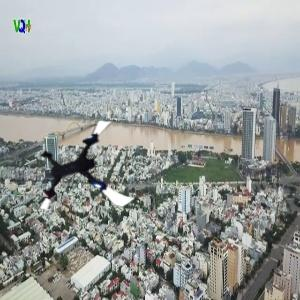drone: (35, 115, 137, 217)
